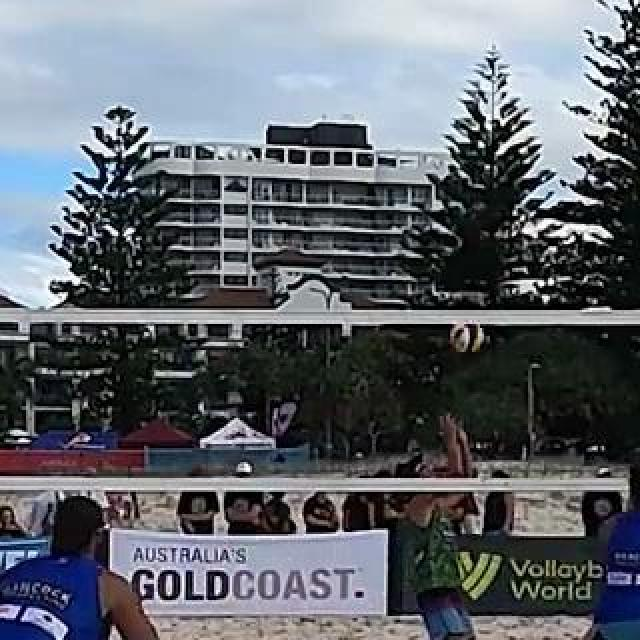volleyball: (450, 324, 482, 352)
